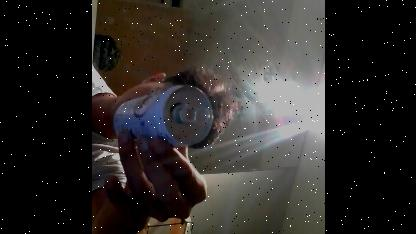Can: (110, 84, 212, 148)
